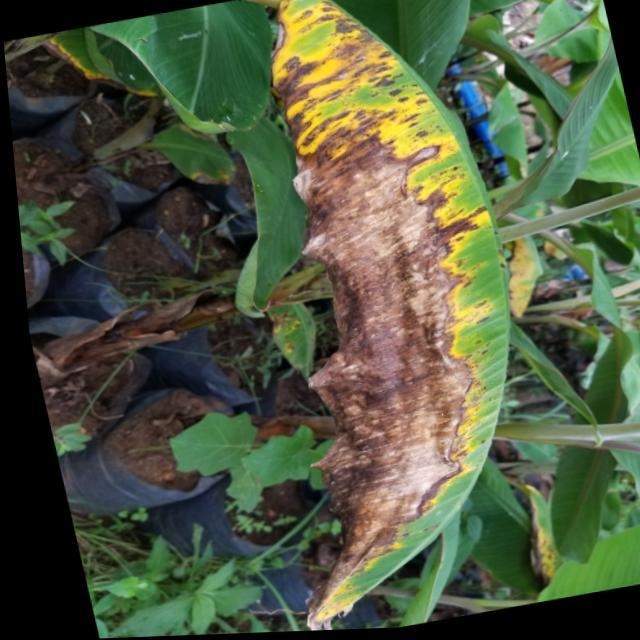Early_rust: (205, 0, 543, 629)
